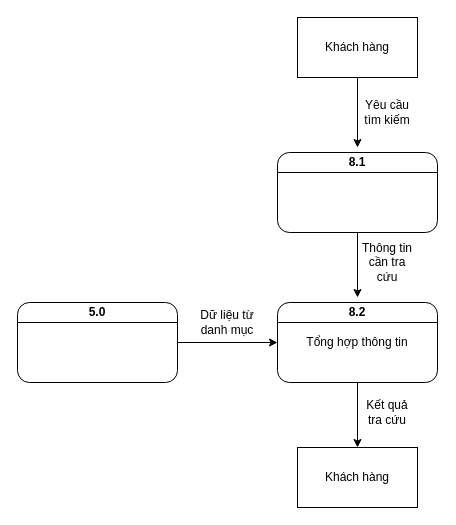
Image size: 456x525. Some labels were removed from this diagram. The shapes that lost their labels are listed below. From the top down, each one's box as (x1, y1, x2, y2) in pixels, then its label:
(276, 152, 438, 232): Tiếp nhận yêu cầu tra cứu
(16, 302, 178, 382): Quản lí danh mục
